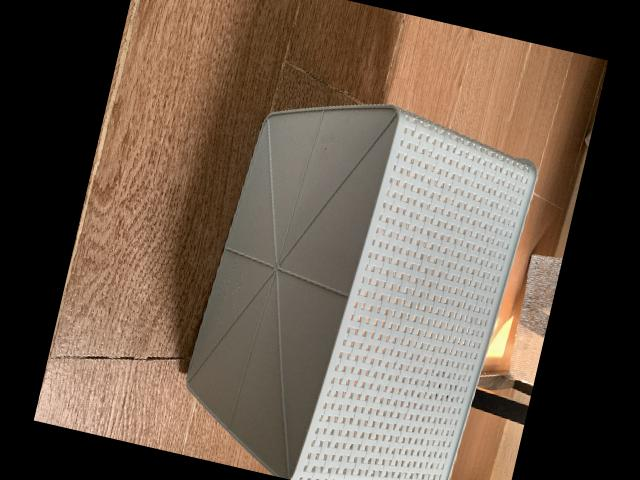cart: (183, 102, 535, 480)
